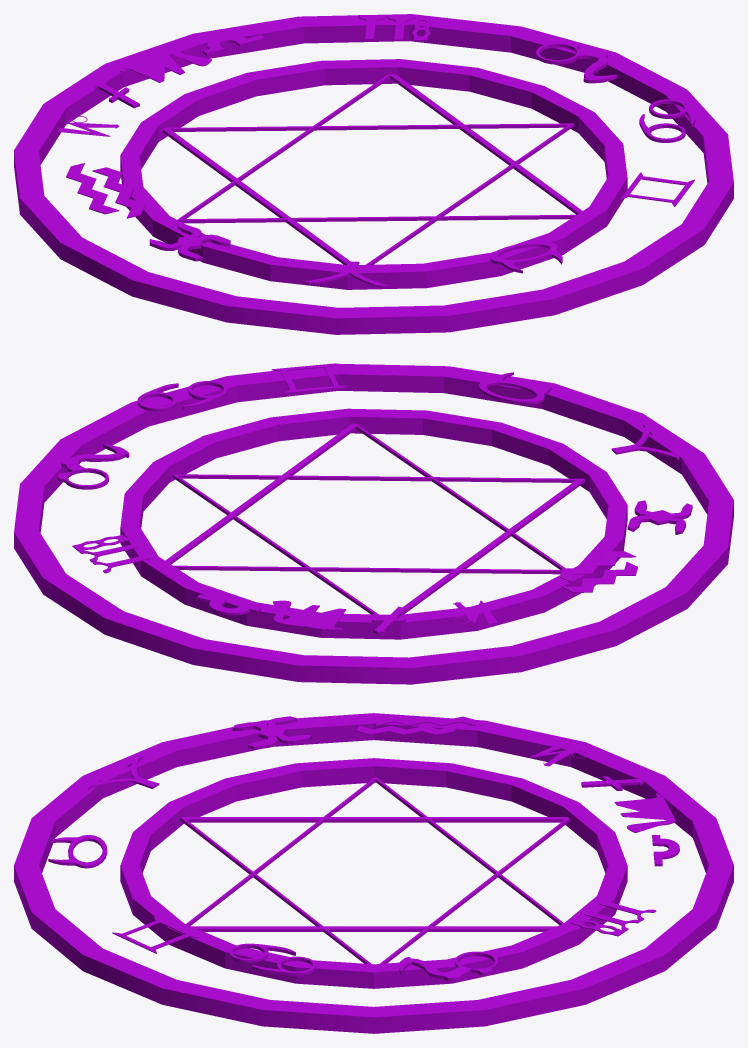
Rendered from mahoujinn.fbx.
3 views of the same model, one above another, from view 1: azimuth 30°, elevation 25°; view 2: azimuth 150°, elevation 25°; view 3: azimuth 270°, elevation 25° (orthographic).
Visible parts, largest first — view 1: polySurface462; view 2: polySurface462; view 3: polySurface462.
Part boxes in pixels (x1=…): polySurface462: x1=14, y1=14, x2=733, y2=334; polySurface462: x1=14, y1=363, x2=733, y2=684; polySurface462: x1=14, y1=713, x2=733, y2=1033.
Size of the model in its own units: 2 by 0.1259 by 2.
